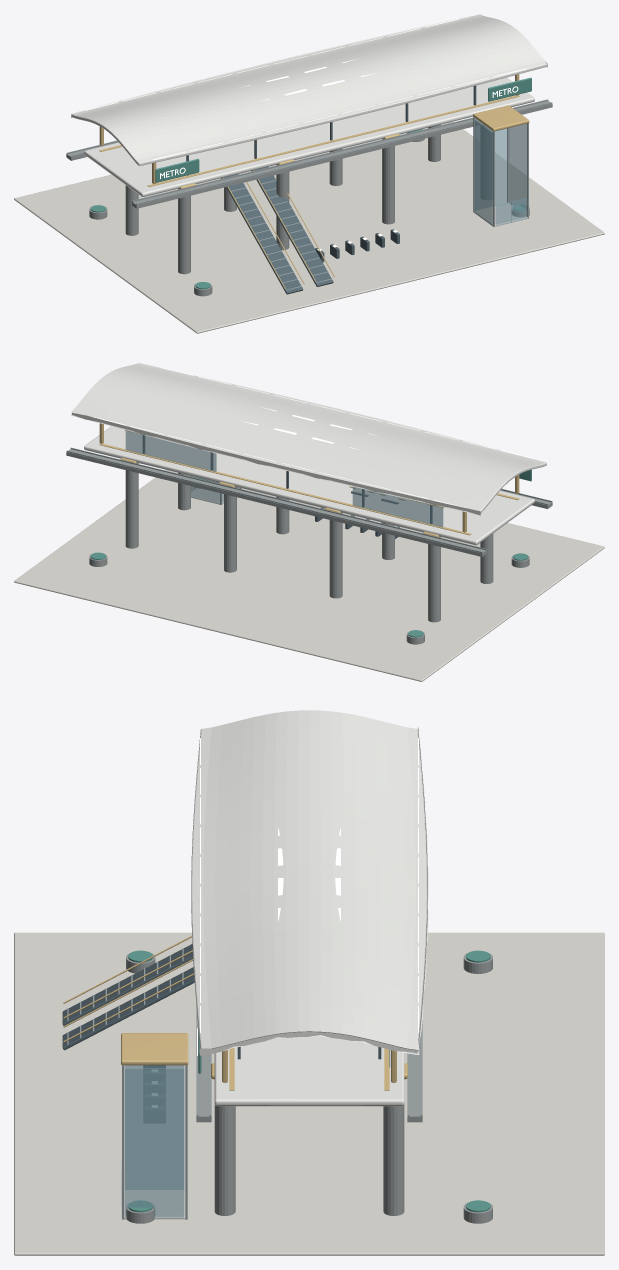
The model's file is elevated-station.glb.
3 renders of one model, top to bottom at view 1: azimuth 30°, elevation 25°; view 2: azimuth 150°, elevation 25°; view 3: azimuth 270°, elevation 25°, orthographic. The views are drawn at different scales.
Visible parts, largest first — view 1: Station forecourt, Sweeping white station roof, Elevated island platform, Track beam, Public glass elevator rear glass, Up escalator moving belt, Down escalator moving belt, Public glass elevator glass side, Public glass elevator glass side.001, Tactile platform edge, Concrete viaduct pier, Concrete viaduct pier.004 (+8 smaller); view 2: Station forecourt, Sweeping white station roof, Elevated island platform, Track beam.001, Platform glazed windscreen, Platform glazed windscreen.001, Concrete viaduct pier.007, Concrete viaduct pier.003, Concrete viaduct pier.001, Concrete viaduct pier.005, Tactile platform edge.001, Running rail.003 (+2 smaller); view 3: Station forecourt, Sweeping white station roof, Elevated island platform, Public glass elevator glass side.001, Public glass elevator glass side, Concrete viaduct pier.006, Concrete viaduct pier.007, Public glass elevator roof, Down escalator moving belt, Up escalator moving belt, Public glass elevator lift floor, Track beam.001 (+1 smaller).
Boxes of the visible parts, x1=… form: Station forecourt: x1=14, y1=121, x2=604, y2=333; Sweeping white station roof: x1=71, y1=14, x2=547, y2=165; Elevated island platform: x1=84, y1=77, x2=534, y2=196; Track beam: x1=132, y1=101, x2=552, y2=208; Public glass elevator rear glass: x1=475, y1=118, x2=507, y2=209; Up escalator moving belt: x1=221, y1=174, x2=303, y2=294; Down escalator moving belt: x1=251, y1=167, x2=333, y2=286; Public glass elevator glass side: x1=474, y1=120, x2=492, y2=225; Public glass elevator glass side.001: x1=509, y1=123, x2=526, y2=209; Tactile platform edge: x1=147, y1=95, x2=519, y2=186; Concrete viaduct pier: x1=178, y1=188, x2=190, y2=274; Concrete viaduct pier.004: x1=382, y1=138, x2=394, y2=224; Station forecourt: x1=14, y1=470, x2=604, y2=681; Sweeping white station roof: x1=71, y1=362, x2=546, y2=515; Elevated island platform: x1=84, y1=426, x2=534, y2=545; Track beam.001: x1=66, y1=449, x2=486, y2=556; Platform glazed windscreen: x1=352, y1=487, x2=443, y2=527; Platform glazed windscreen.001: x1=125, y1=431, x2=216, y2=471; Concrete viaduct pier.007: x1=125, y1=463, x2=138, y2=548; Concrete viaduct pier.003: x1=329, y1=513, x2=342, y2=598; Concrete viaduct pier.001: x1=428, y1=537, x2=440, y2=622; Concrete viaduct pier.005: x1=224, y1=487, x2=236, y2=572; Tactile platform edge.001: x1=99, y1=443, x2=471, y2=535; Running rail.003: x1=66, y1=450, x2=482, y2=553; Station forecourt: x1=14, y1=932, x2=604, y2=1255; Sweeping white station roof: x1=191, y1=710, x2=428, y2=1055; Elevated island platform: x1=214, y1=1036, x2=404, y2=1106; Public glass elevator glass side.001: x1=125, y1=1068, x2=184, y2=1218; Public glass elevator glass side: x1=125, y1=1065, x2=184, y2=1189; Concrete viaduct pier.006: x1=214, y1=1105, x2=235, y2=1215; Concrete viaduct pier.007: x1=383, y1=1105, x2=404, y2=1215; Public glass elevator roof: x1=121, y1=1033, x2=188, y2=1065; Down escalator moving belt: x1=62, y1=967, x2=194, y2=1050; Up escalator moving belt: x1=62, y1=944, x2=193, y2=1025; Public glass elevator lift floor: x1=124, y1=1190, x2=185, y2=1219; Track beam.001: x1=407, y1=1020, x2=422, y2=1122.
Size of the model in its own units: 55 by 17.67 by 42.
